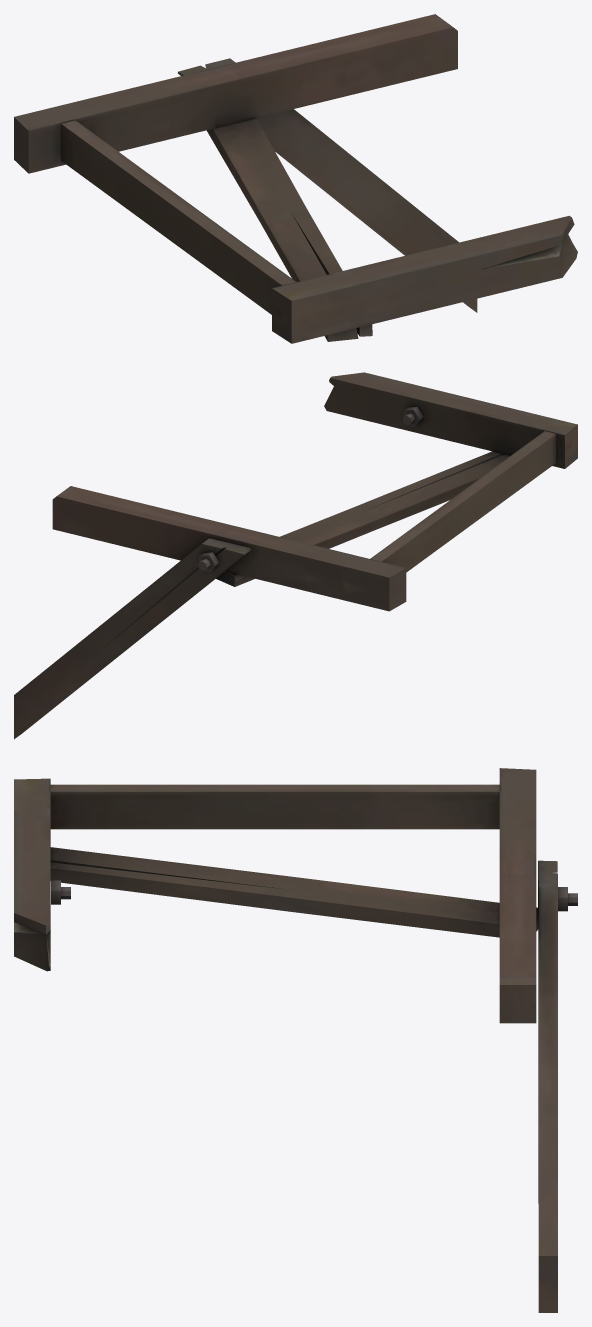
3 views of the same model, one above another, from view 1: azimuth 30°, elevation 25°; view 2: azimuth 150°, elevation 25°; view 3: azimuth 270°, elevation 25° (orthographic). The views are drawn at different scales.
Visible parts, largest first — view 1: body0_model0_lod0_mesh0; view 2: body0_model0_lod0_mesh0; view 3: body0_model0_lod0_mesh0.
Part boxes in pixels (left/top/right/bottom): body0_model0_lod0_mesh0: left=14, top=14, right=577, bottom=343; body0_model0_lod0_mesh0: left=14, top=372, right=577, bottom=739; body0_model0_lod0_mesh0: left=14, top=768, right=577, bottom=1312.
Bounding box in the file's own units: 137 × 87 × 142.
Materials: 1 (1 with a texture image).
